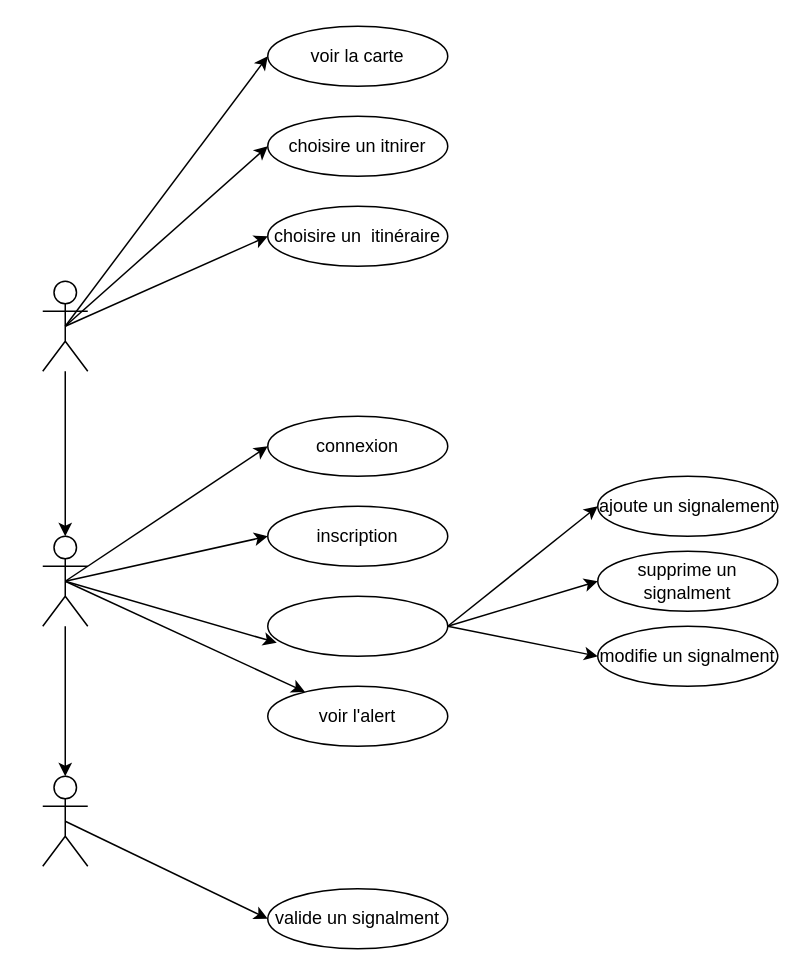
This 804x975 diagram has some shape labels left out. Here are the shapes that lost their labels. From the top down, the box of each, then its label:
(41, 280, 88, 371): Visitor
(41, 535, 88, 626): Utilisateur
(266, 595, 448, 656): crud Signalements d'incidents
(41, 775, 88, 866): Admin
